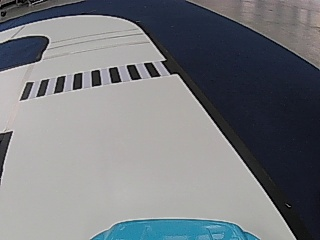CrossWalk: (21, 65, 152, 100)
